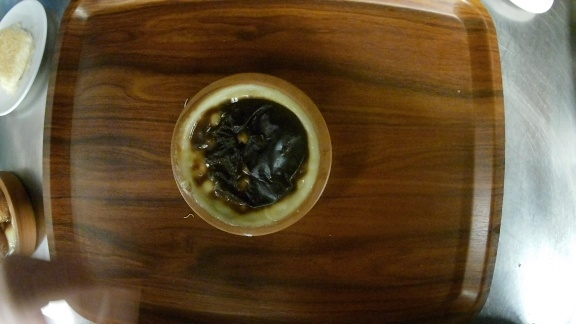sutlac: (167, 73, 332, 238)
